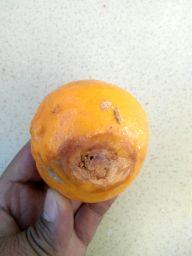Unripe: (30, 78, 151, 200)
